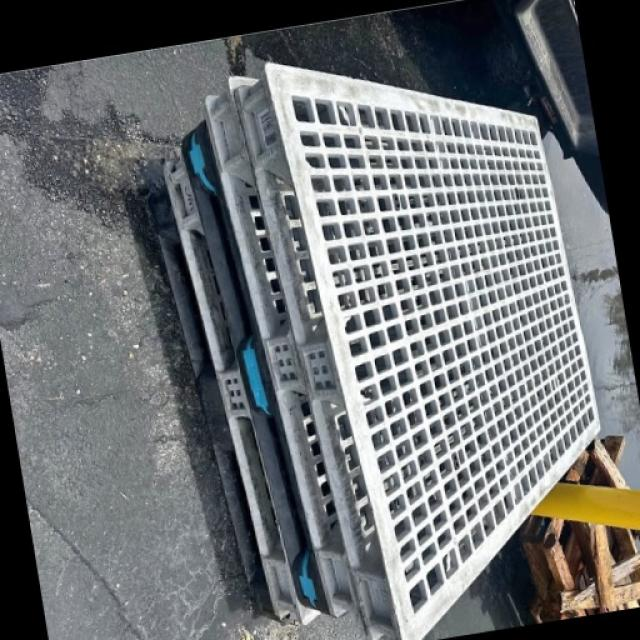non-igps: (226, 50, 610, 640), (198, 68, 368, 624), (150, 136, 330, 634), (174, 114, 340, 624), (133, 177, 302, 633)
